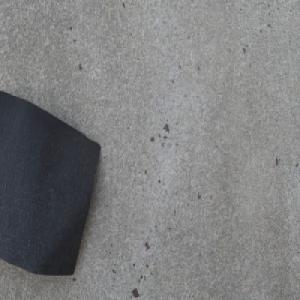PaintChip: (0, 88, 101, 278)
